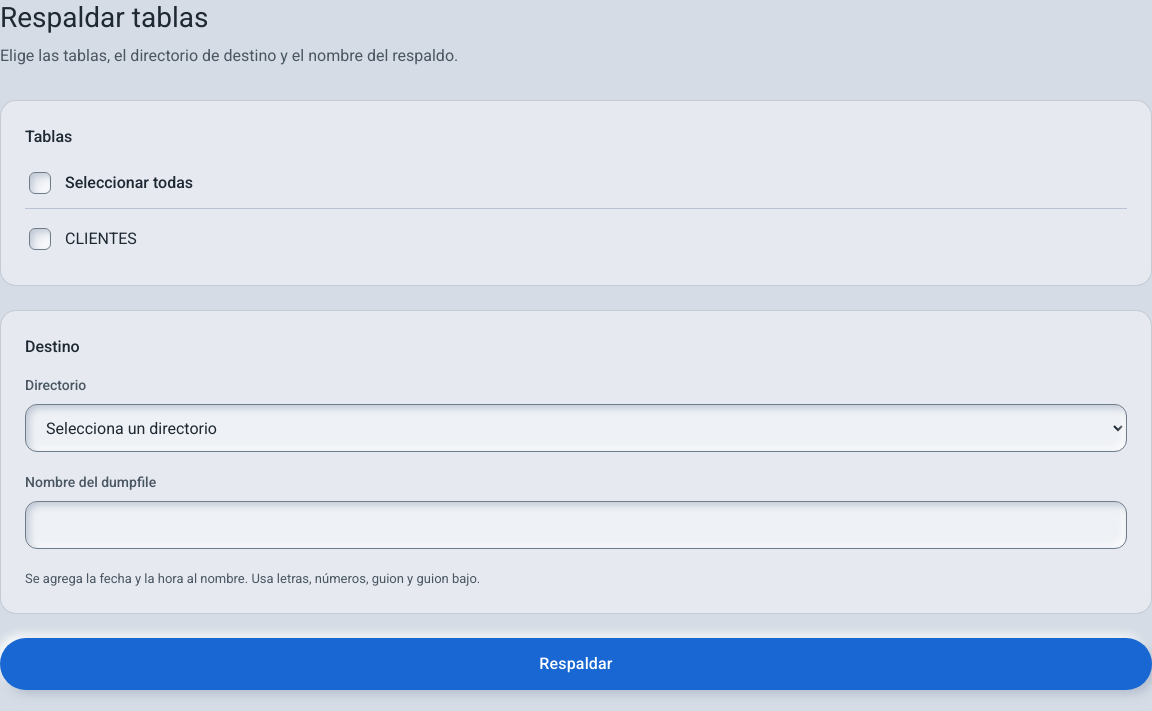
resultado del respaldo de tablas › si expdp falla muestra el error y el contenido del log
Click the button "Respaldar".
click(576, 664)  # box x1=0 y1=638 x2=1151 y2=690
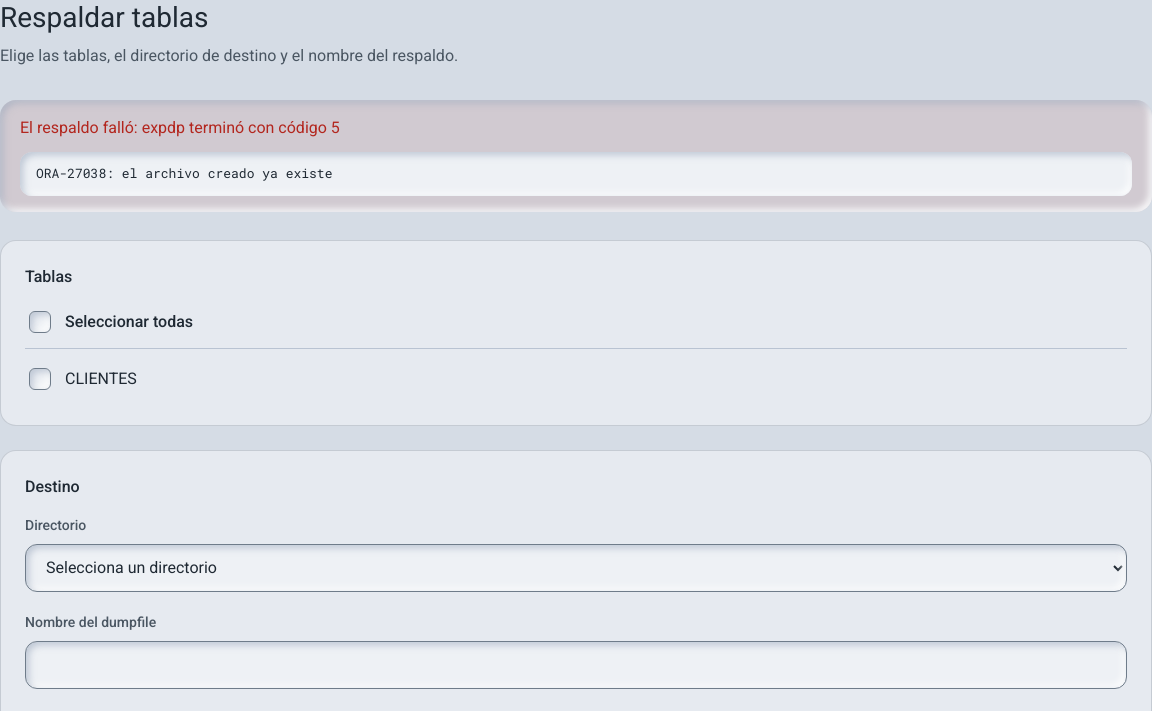
Now the message shows "expdp terminó con código 5", box x1=20 y1=118 x2=340 y2=137
Now the message shows "ORA-27038", box x1=36 y1=164 x2=332 y2=182
